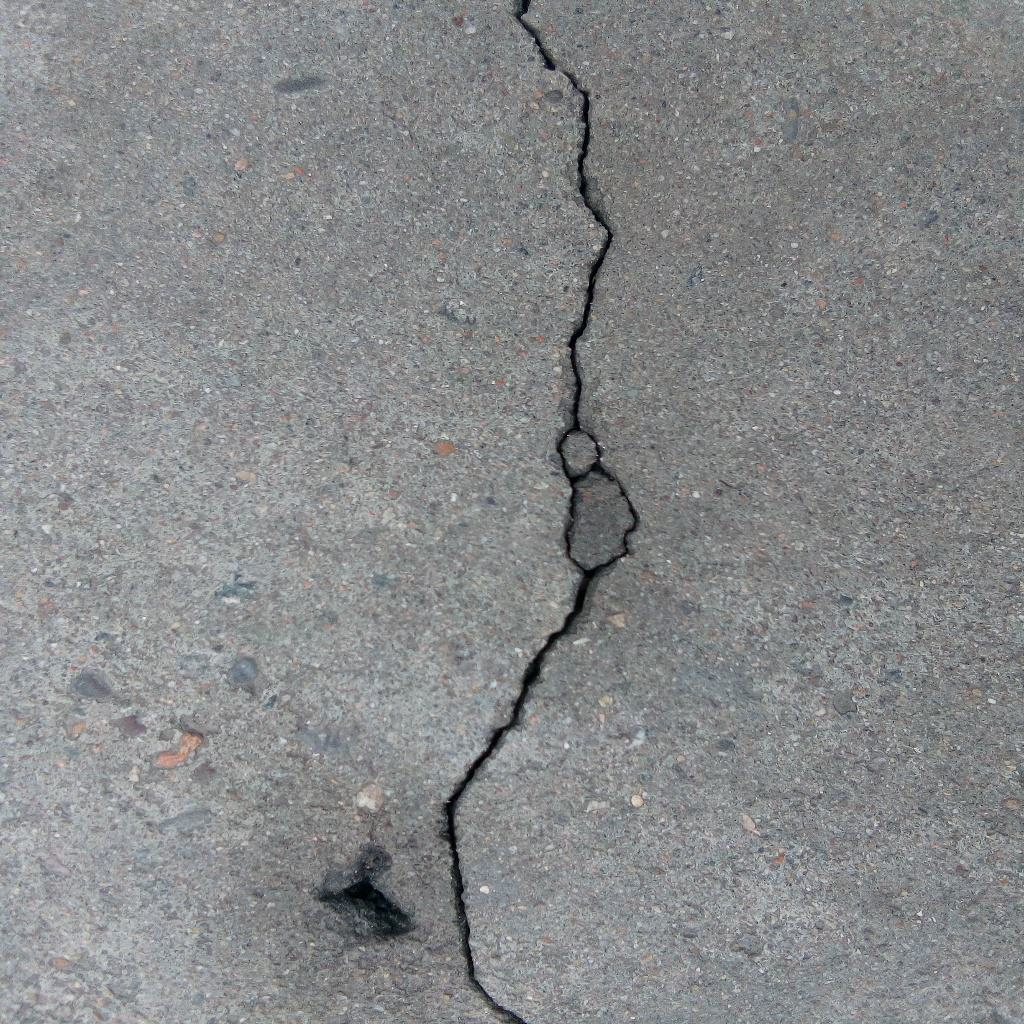Crack: (442, 1, 640, 1024)
